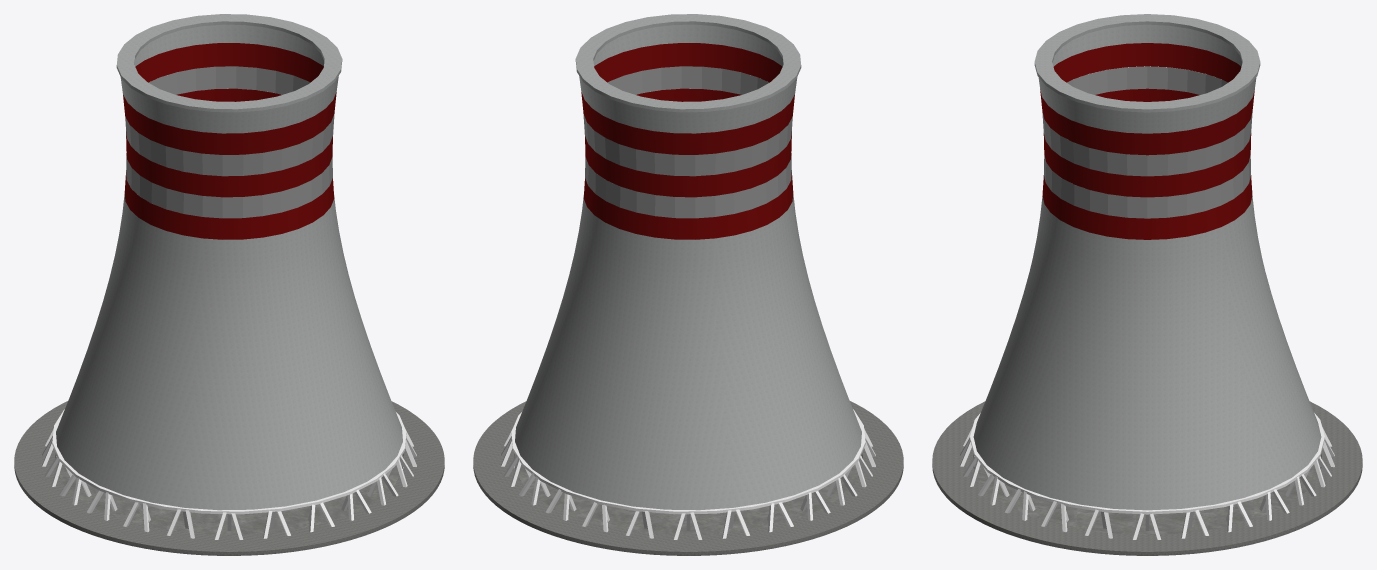
Rendered from yancongda.fbx.
3 views of the same model, side by side, from view 1: azimuth 30°, elevation 25°; view 2: azimuth 150°, elevation 25°; view 3: azimuth 270°, elevation 25° (orthographic).
Visible parts, largest first — view 1: Obj3d66-790330-1353-301, Obj3d66-790330-1354-349, Obj3d66-790330-1352-397, 对象001, Obj3d66-790330-1278-704, Obj3d66-790330-1351-830, Obj3d66-790330-1277-27; view 2: Obj3d66-790330-1353-301, Obj3d66-790330-1354-349, Obj3d66-790330-1352-397, 对象001, Obj3d66-790330-1278-704, Obj3d66-790330-1351-830, Obj3d66-790330-1277-27; view 3: Obj3d66-790330-1353-301, Obj3d66-790330-1354-349, Obj3d66-790330-1352-397, 对象001, Obj3d66-790330-1278-704, Obj3d66-790330-1351-830, Obj3d66-790330-1277-27.
Boxes of the visible parts, box(x1,y1,x2,y2) form: Obj3d66-790330-1353-301: box(56, 24, 402, 510); Obj3d66-790330-1354-349: box(123, 43, 336, 239); Obj3d66-790330-1352-397: box(14, 401, 444, 555); 对象001: box(125, 66, 334, 218); Obj3d66-790330-1278-704: box(116, 14, 342, 112); Obj3d66-790330-1351-830: box(55, 455, 403, 534); Obj3d66-790330-1277-27: box(52, 409, 406, 514); Obj3d66-790330-1353-301: box(515, 24, 861, 510); Obj3d66-790330-1354-349: box(581, 43, 794, 239); Obj3d66-790330-1352-397: box(473, 401, 903, 555); 对象001: box(583, 66, 792, 218); Obj3d66-790330-1278-704: box(575, 14, 801, 112); Obj3d66-790330-1351-830: box(514, 455, 862, 534); Obj3d66-790330-1277-27: box(511, 409, 865, 514); Obj3d66-790330-1353-301: box(973, 24, 1321, 510); Obj3d66-790330-1354-349: box(1040, 43, 1254, 239); Obj3d66-790330-1352-397: box(932, 401, 1362, 555); 对象001: box(1042, 66, 1252, 218); Obj3d66-790330-1278-704: box(1034, 14, 1260, 112); Obj3d66-790330-1351-830: box(973, 456, 1321, 534); Obj3d66-790330-1277-27: box(970, 413, 1324, 514).
Size of the model in its own units: 63.22 by 65.36 by 63.22.
Materials: 6 (3 with a texture image).
